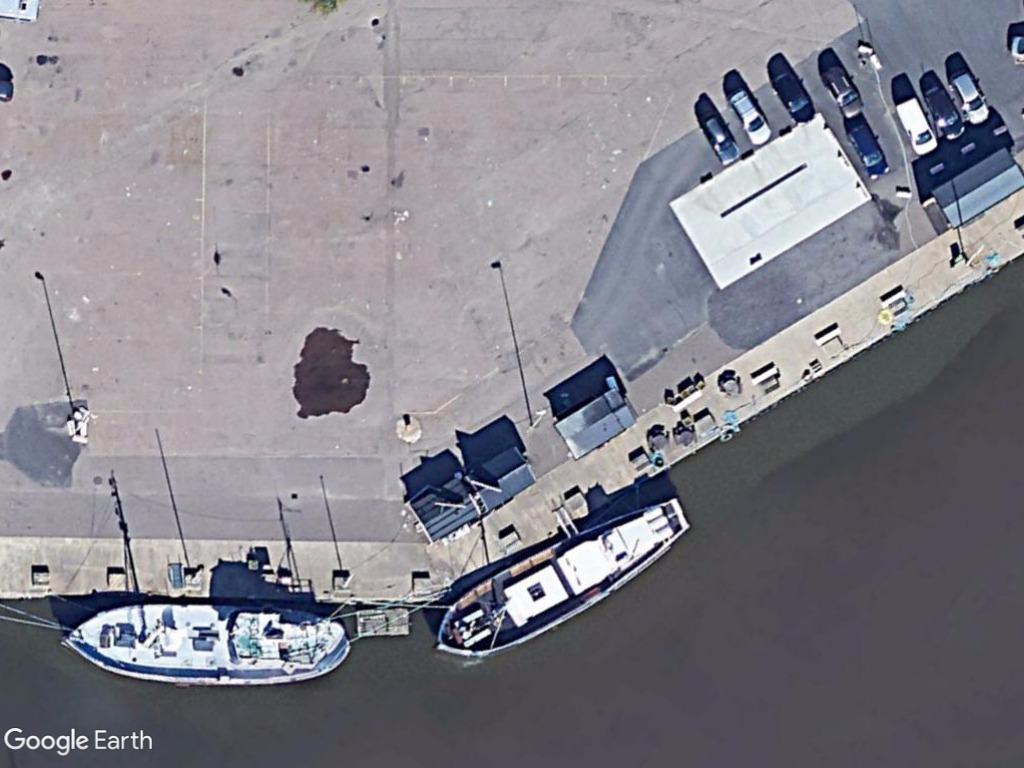boat: (429, 491, 695, 665), (52, 599, 358, 695)
car: (721, 83, 773, 149), (842, 115, 892, 183), (768, 63, 817, 126), (945, 64, 991, 130), (695, 105, 743, 167), (820, 57, 865, 123), (920, 82, 966, 145)
van: (894, 93, 938, 161)
